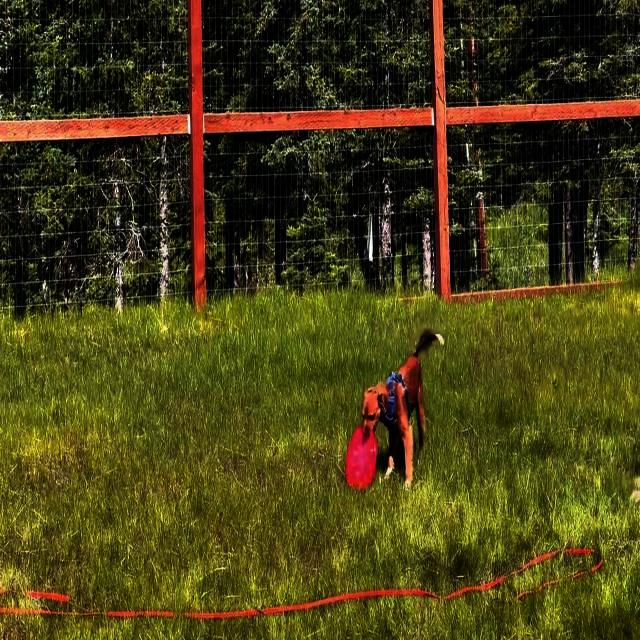Dog: (362, 332, 444, 489)
